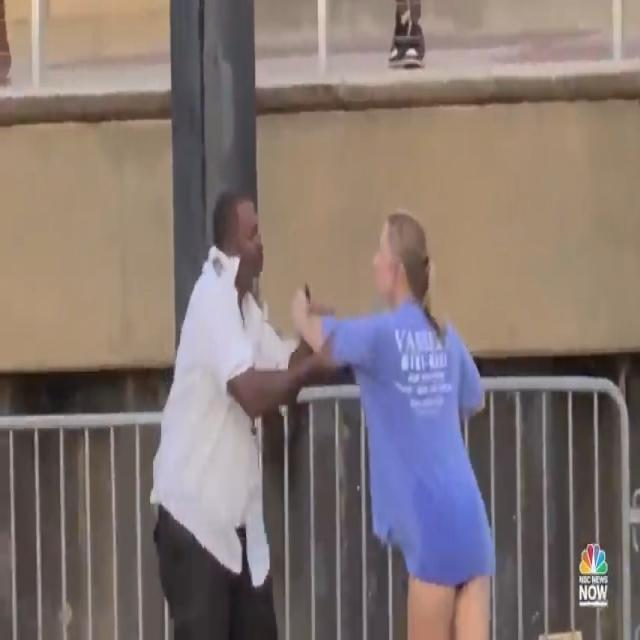fight: (134, 185, 534, 640)
